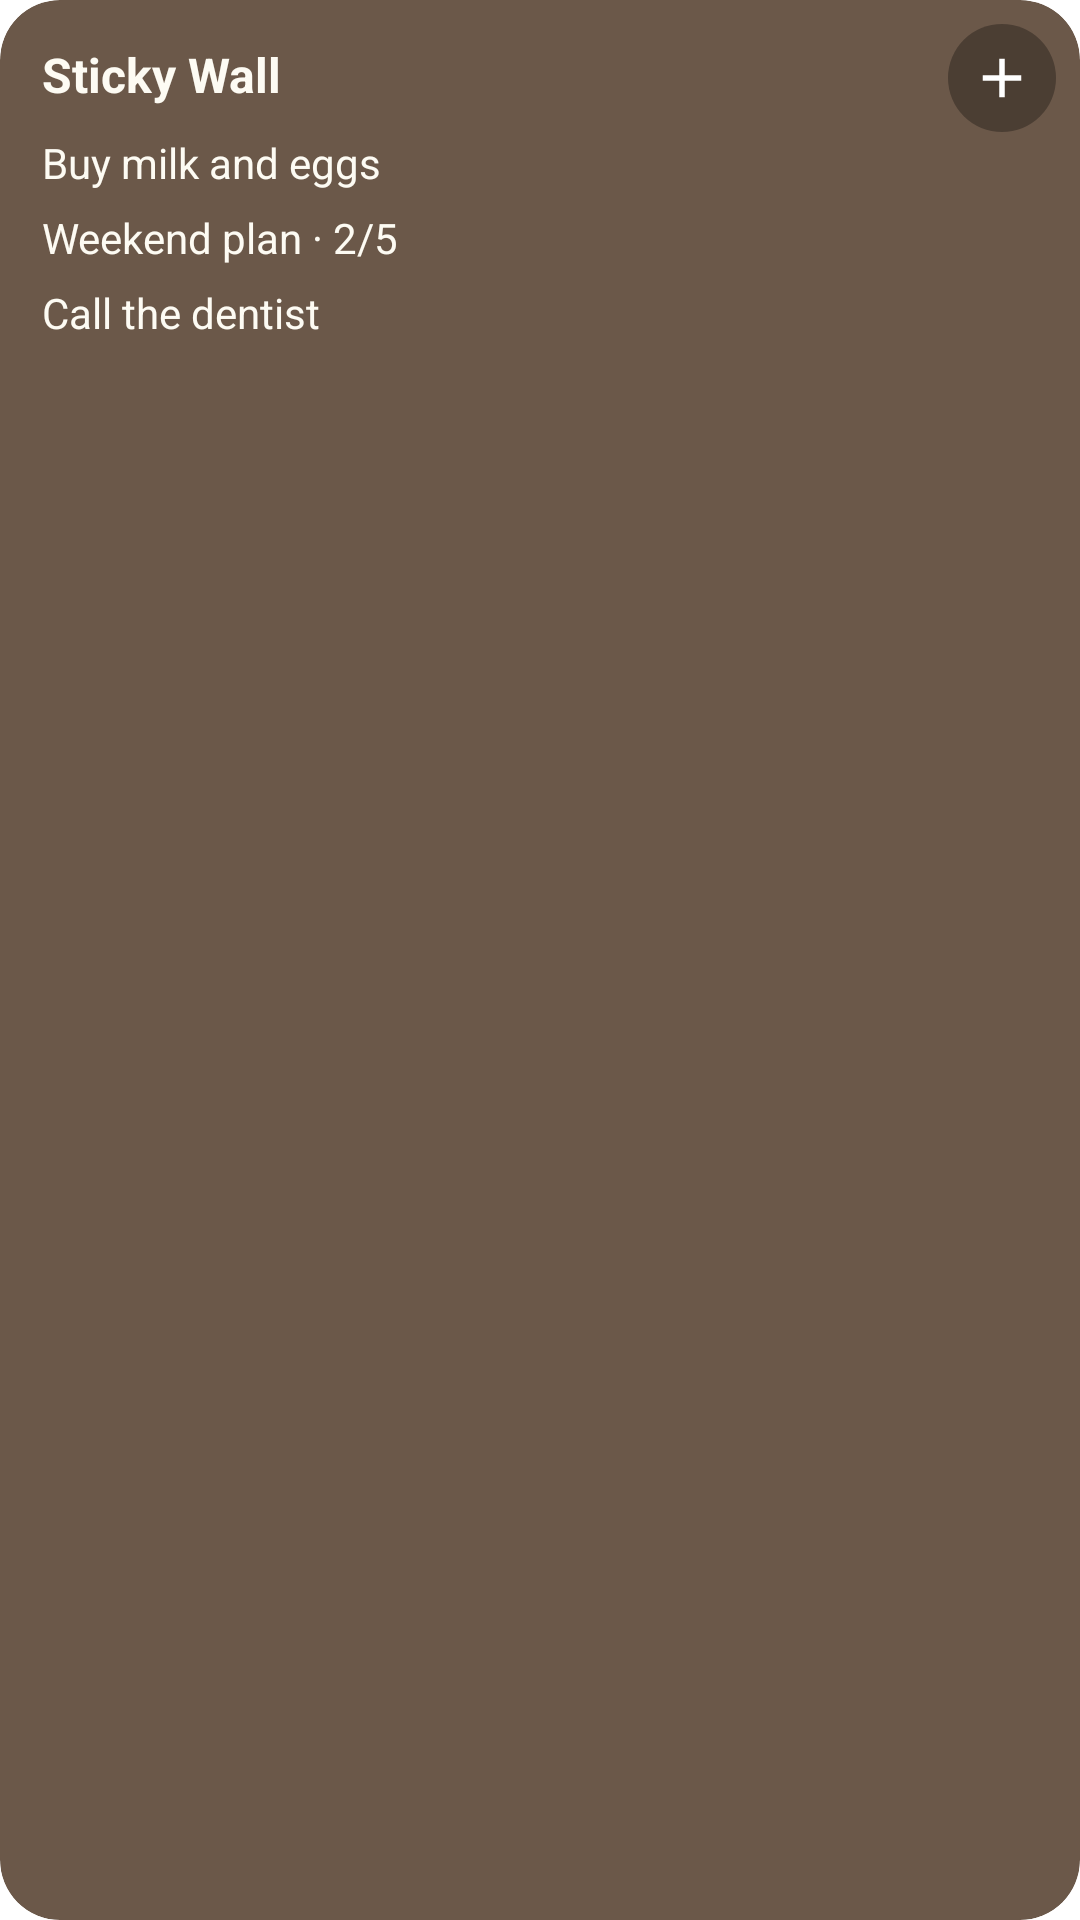

Where icons sit on this 1080x1920 app screen, as (x1, y1, x2, y2):
New note: (948, 24, 1056, 132)
